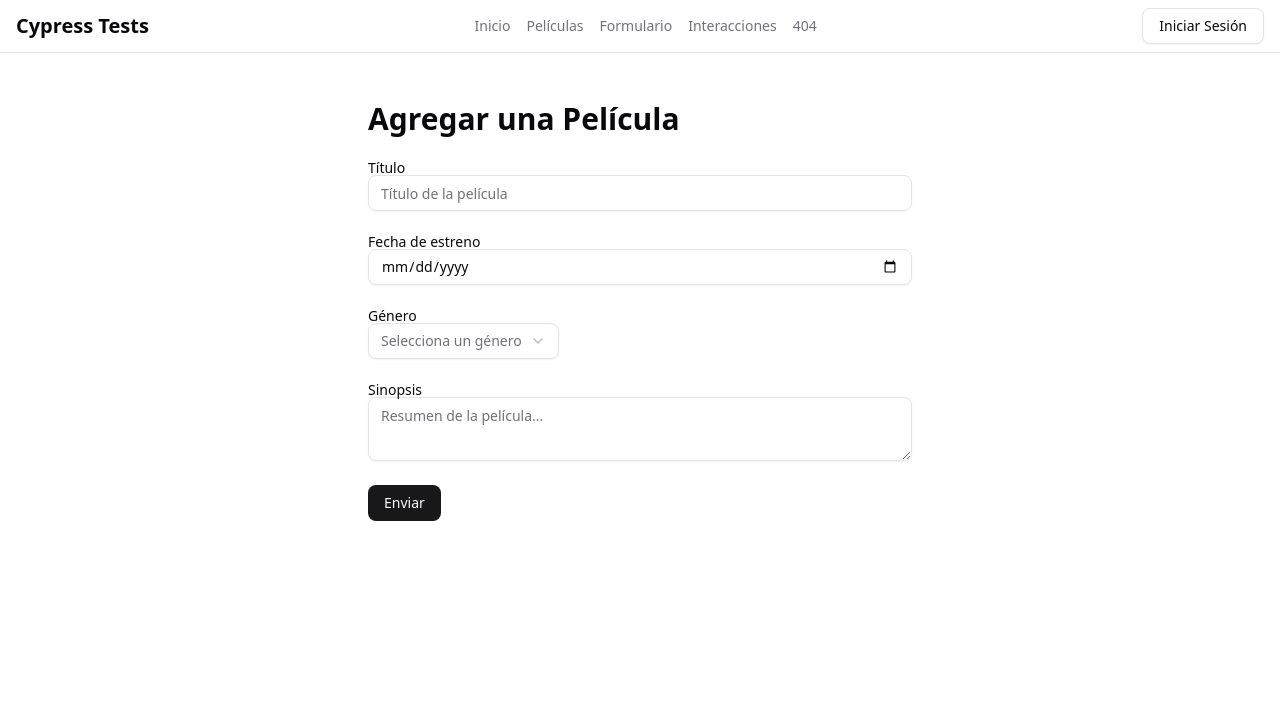
Form tests › should show error if only title is filled
This screenshot has width=1280, height=720.
Type "Cars 3" into the field with test id "input-movie-title" at {"x": 640, "y": 193}, box top-left (368, 175), bottom-right (912, 211)
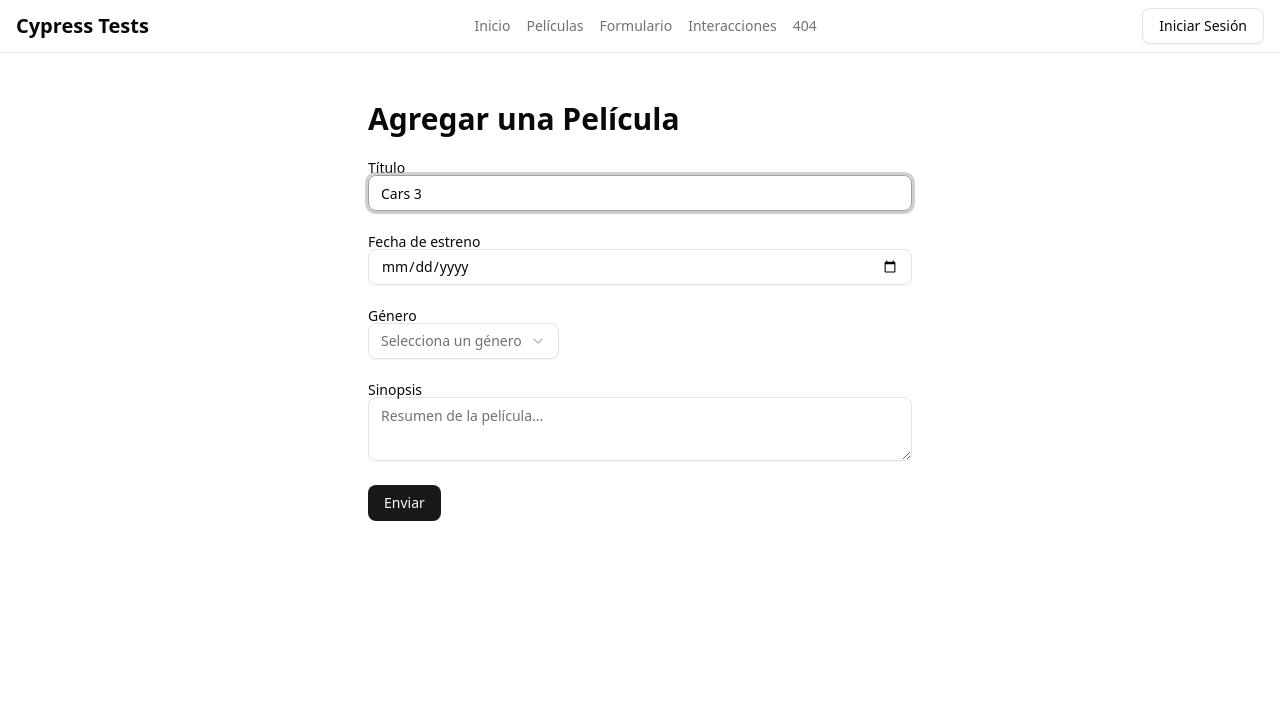
Click the button with test id "submit-button" at {"x": 405, "y": 503}, box top-left (368, 485), bottom-right (441, 521)
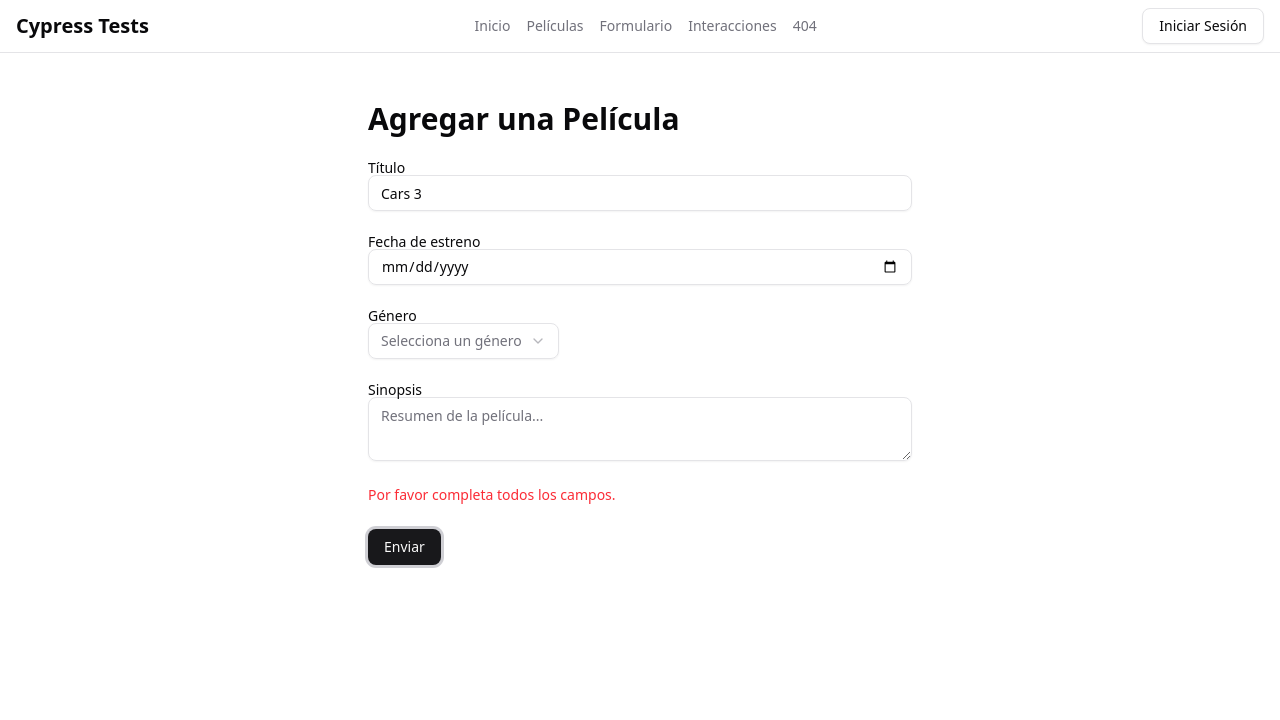
Now the text "Por favor completa todos los campos." is shown, box top-left (368, 485), bottom-right (616, 504)
